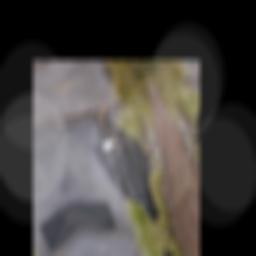Crow: (85, 90, 187, 236)
